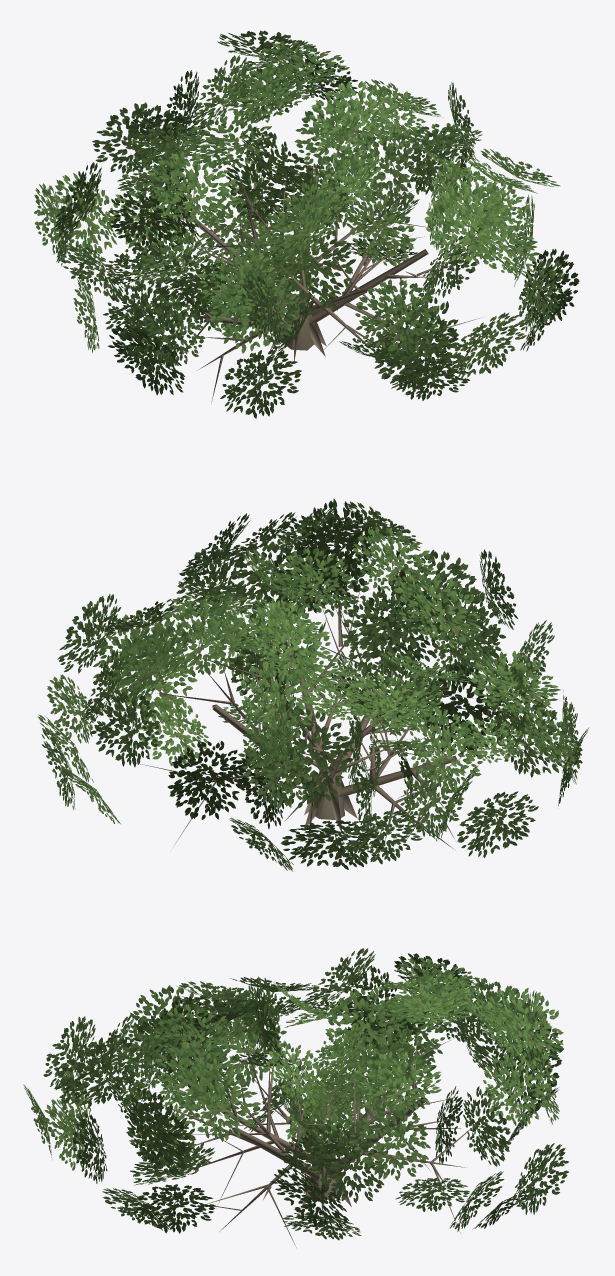
The model's file is eco_shrub_round_a_LOD1.glb.
3 renders of one model, top to bottom at view 1: azimuth 30°, elevation 25°; view 2: azimuth 150°, elevation 25°; view 3: azimuth 270°, elevation 25°, orthographic. The views are drawn at different scales.
Parts seen in each view (by area): view 1: eco_shrub_round_a_LOD1; view 2: eco_shrub_round_a_LOD1; view 3: eco_shrub_round_a_LOD1.
Part boxes in pixels (x1,y1,x2,y2): eco_shrub_round_a_LOD1: (34,30,579,418); eco_shrub_round_a_LOD1: (38,498,588,871); eco_shrub_round_a_LOD1: (23,948,568,1247).
Size of the model in its own units: 2.28 by 1.36 by 2.56.
2 materials, 1 textured.
